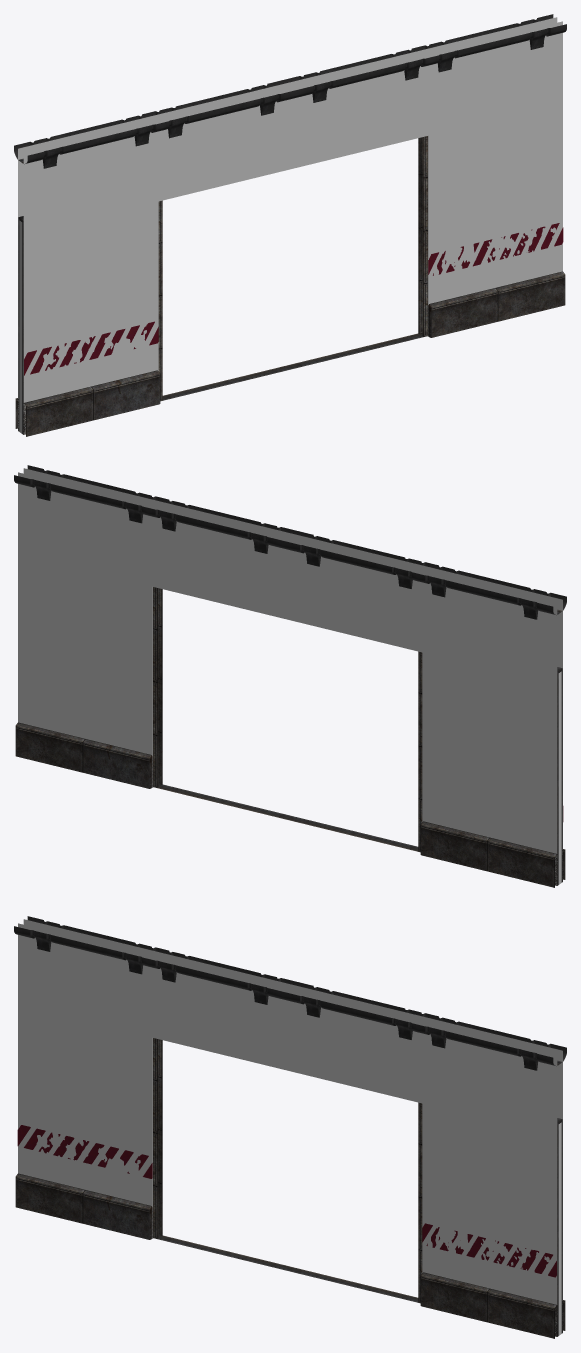
Rendered from lab_flat_glass_doorway_double_striped.dae.
The picture shows the model from 3 angles, top to bottom: view 1: azimuth 30°, elevation 25°; view 2: azimuth 150°, elevation 25°; view 3: azimuth 330°, elevation 25°; orthographic projection.
Parts seen in each view (by area): view 1: polySurface35, polySurface49, polySurface43, polySurface42; view 2: polySurface35, polySurface49; view 3: polySurface35, polySurface49, polySurface43, polySurface42.
Part boxes in pixels (bbox=[...]): polySurface35: bbox=[18, 17, 562, 434]; polySurface49: bbox=[14, 14, 566, 436]; polySurface43: bbox=[24, 321, 158, 375]; polySurface42: bbox=[428, 223, 563, 275]; polySurface35: bbox=[18, 468, 562, 885]; polySurface49: bbox=[14, 465, 566, 887]; polySurface35: bbox=[18, 919, 562, 1335]; polySurface49: bbox=[14, 916, 566, 1338]; polySurface43: bbox=[17, 1125, 152, 1178]; polySurface42: bbox=[422, 1223, 556, 1277].
Bounding box in the file's own units: 8 × 4 × 0.3514.
